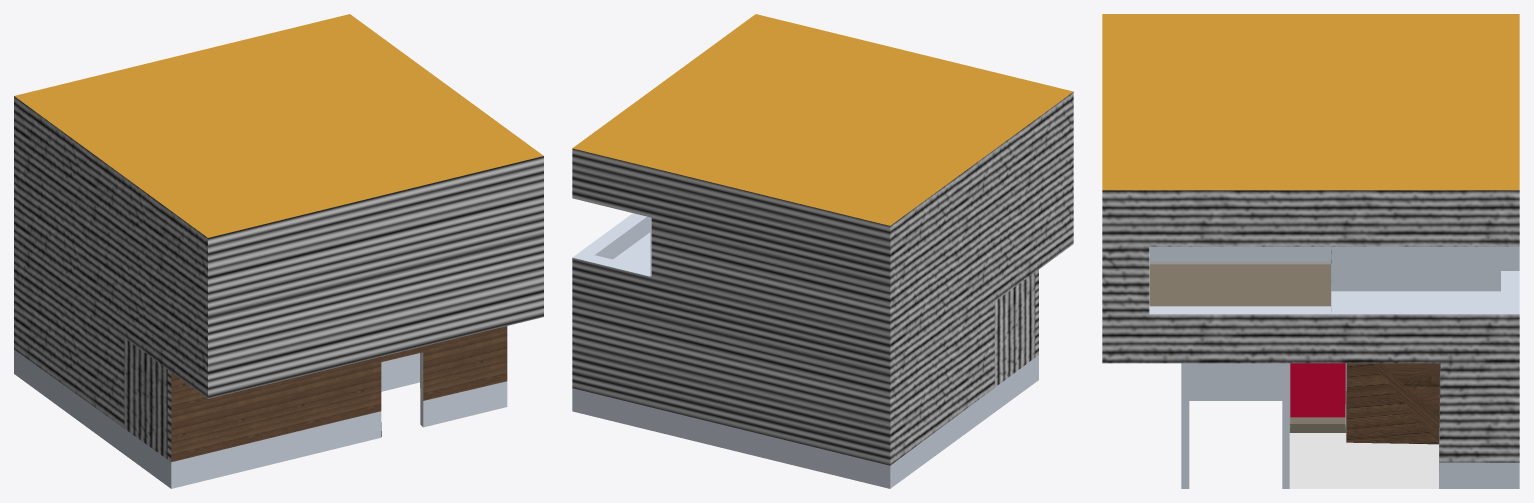
File: House.fbx
3 views of the same model, side by side, from view 1: azimuth 30°, elevation 25°; view 2: azimuth 150°, elevation 25°; view 3: azimuth 270°, elevation 25° (orthographic). The views are drawn at different scales.
Parts seen in each view (by area): view 1: Cube; view 2: Cube; view 3: Cube.
Part boxes in pixels (left/top/right/bottom): Cube: left=14, top=14, right=543, bottom=488; Cube: left=572, top=14, right=1073, bottom=488; Cube: left=1102, top=14, right=1519, bottom=488.
Bounding box in the file's own units: 1291 × 1026 × 1291.
